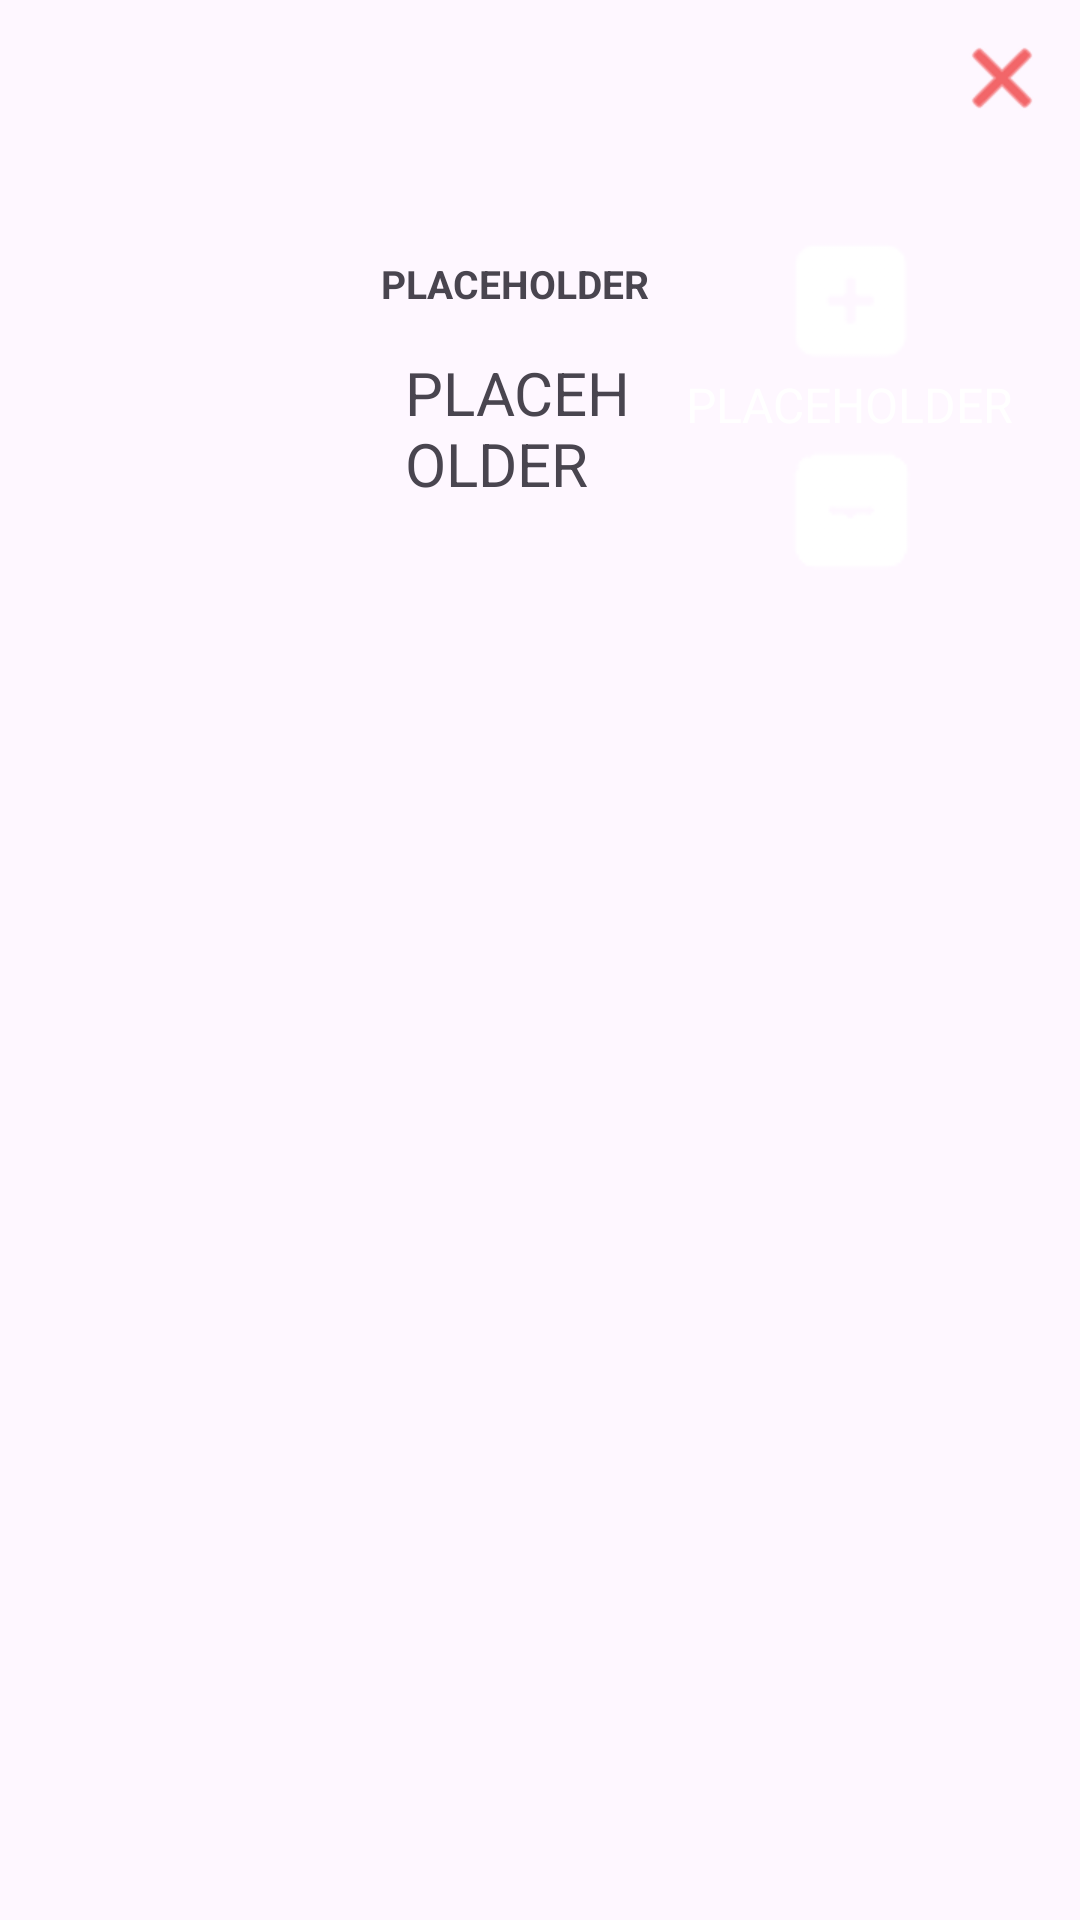

Icon bounding boxes for this 1080 × 1920 phone screenshot, format box=[x1, y1, x2, y2]:
close clear cancel: box=[972, 48, 1032, 108]
